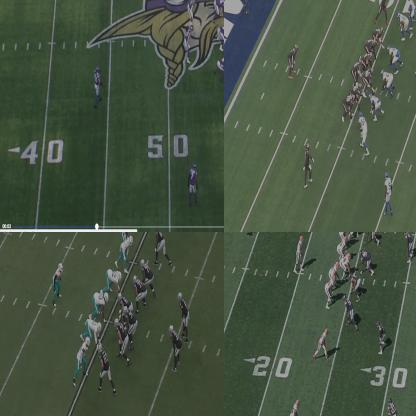CENTER: (362, 68, 374, 92), (341, 252, 353, 276), (122, 296, 134, 314)
DB: (190, 161, 200, 200), (384, 172, 392, 214), (94, 66, 101, 104), (386, 399, 400, 415), (408, 0, 415, 27)
LB: (75, 337, 90, 386), (51, 261, 63, 303), (117, 237, 133, 264), (397, 13, 412, 39), (403, 232, 414, 261), (186, 25, 194, 63), (377, 322, 385, 357), (361, 113, 368, 152), (188, 0, 197, 23), (119, 232, 135, 237)
QB: (178, 292, 189, 340), (351, 55, 362, 83), (295, 233, 303, 271)
SKILL: (98, 344, 112, 392), (154, 232, 169, 264), (169, 325, 179, 373), (316, 326, 330, 358), (116, 321, 127, 360), (288, 44, 298, 80), (372, 26, 386, 50), (305, 145, 311, 188), (287, 397, 301, 415), (377, 0, 389, 17)
